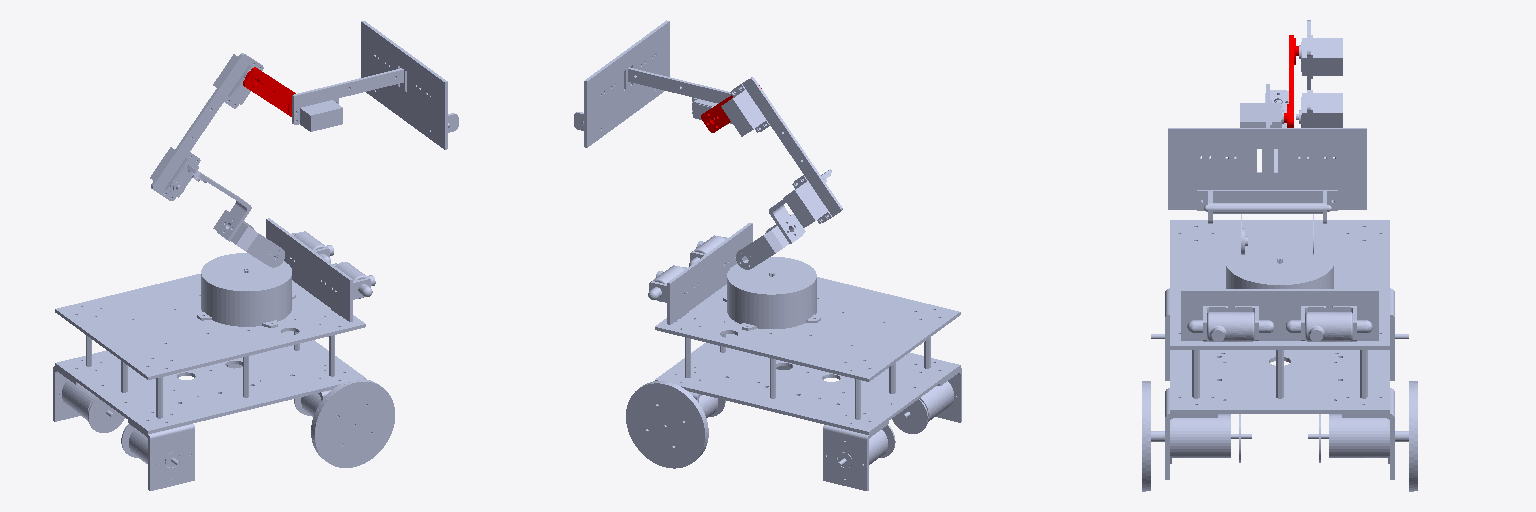
The robot description file, URDF, robot "exa_cambase":
<robot
  name="exa_cambase">
  <link
    name="base">
    <inertial>
      <origin
        xyz="0.0099032 -3.9625E-09 -0.053423"
        rpy="0 0 0" />
      <mass
        value="0.96" />
      <inertia
        ixx="0.0063903"
        ixy="2.0228E-10"
        ixz="-0.00067347"
        iyy="0.010388"
        iyz="3.5225E-10"
        izz="0.012125" />
    </inertial>
    <visual>
      <origin
        xyz="0 0 0"
        rpy="0 0 0" />
      <geometry>
        <mesh
          filename="package://exa_cambase/meshes/base.stl" />
      </geometry>
      <material
        name="">
        <color
          rgba="0.79216 0.81961 0.93333 1" />
      </material>
    </visual>
    <collision>
      <origin
        xyz="0 0 0"
        rpy="0 0 0" />
      <geometry>
        <mesh
          filename="package://exa_cambase/meshes/base.stl" />
      </geometry>
    </collision>
  </link>
  <link
    name="mlink1">
    <inertial>
      <origin
        xyz="-0.06527 0.10431 0.10694"
        rpy="0 0 0" />
      <mass
        value="2.1964" />
      <inertia
        ixx="0.040348"
        ixy="0.0006216"
        ixz="-0.014099"
        iyy="0.055662"
        iyz="-2.2821E-05"
        izz="0.037292" />
    </inertial>
    <visual>
      <origin
        xyz="0 0 0"
        rpy="0 0 0" />
      <geometry>
        <mesh
          filename="package://exa_cambase/meshes/mlink1.stl" />
      </geometry>
      <material
        name="">
        <color
          rgba="0.79216 0.81961 0.93333 1" />
      </material>
    </visual>
    <collision>
      <origin
        xyz="0 0 0"
        rpy="0 0 0" />
      <geometry>
        <mesh
          filename="package://exa_cambase/meshes/mlink1.stl" />
      </geometry>
    </collision>
  </link>
  <joint
    name="mjoint1"
    type="continuous">
    <origin
      xyz="0.10805 -0.104 -0.103"
      rpy="0 0 0" />
    <parent
      link="base" />
    <child
      link="mlink1" />
    <axis
      xyz="0 -1 0" />
    <limit
      effort="100"
      velocity="50" />
  </joint>
  <link
    name="mlink2">
    <inertial>
      <origin
        xyz="-0.06527 -0.10369 0.10694"
        rpy="0 0 0" />
      <mass
        value="2.1964" />
      <inertia
        ixx="0.040348"
        ixy="0.0006216"
        ixz="-0.014099"
        iyy="0.055662"
        iyz="-2.2821E-05"
        izz="0.037292" />
    </inertial>
    <visual>
      <origin
        xyz="0 0 0"
        rpy="0 0 0" />
      <geometry>
        <mesh
          filename="package://exa_cambase/meshes/mlink2.stl" />
      </geometry>
      <material
        name="">
        <color
          rgba="0.79216 0.81961 0.93333 1" />
      </material>
    </visual>
    <collision>
      <origin
        xyz="0 0 0"
        rpy="0 0 0" />
      <geometry>
        <mesh
          filename="package://exa_cambase/meshes/mlink2.stl" />
      </geometry>
    </collision>
  </link>
  <joint
    name="mjoint2"
    type="continuous">
    <origin
      xyz="0.10805 0.104 -0.103"
      rpy="0 -2.9721E-58 8.5125E-44" />
    <parent
      link="base" />
    <child
      link="mlink2" />
    <axis
      xyz="0 1 0" />
    <limit
      effort="100"
      velocity="50" />
  </joint>
  <link
    name="mlink3">
    <inertial>
      <origin
        xyz="0.14873 0.10431 0.10694"
        rpy="0 0 0" />
      <mass
        value="2.1964" />
      <inertia
        ixx="0.040348"
        ixy="0.0006216"
        ixz="-0.014099"
        iyy="0.055662"
        iyz="-2.2821E-05"
        izz="0.037292" />
    </inertial>
    <visual>
      <origin
        xyz="0 0 0"
        rpy="0 0 0" />
      <geometry>
        <mesh
          filename="package://exa_cambase/meshes/mlink3.stl" />
      </geometry>
      <material
        name="">
        <color
          rgba="0.79216 0.81961 0.93333 1" />
      </material>
    </visual>
    <collision>
      <origin
        xyz="0 0 0"
        rpy="0 0 0" />
      <geometry>
        <mesh
          filename="package://exa_cambase/meshes/mlink3.stl" />
      </geometry>
    </collision>
  </link>
  <joint
    name="mjoint3"
    type="continuous">
    <origin
      xyz="-0.10595 -0.104 -0.103"
      rpy="0 0 0" />
    <parent
      link="base" />
    <child
      link="mlink3" />
    <axis
      xyz="0 -1 0" />
    <limit
      effort="100"
      velocity="50" />
  </joint>
  <link
    name="mlink4">
    <inertial>
      <origin
        xyz="0.14873 -0.10369 0.10694"
        rpy="0 0 0" />
      <mass
        value="2.1964" />
      <inertia
        ixx="0.040348"
        ixy="0.0006216"
        ixz="-0.014099"
        iyy="0.055662"
        iyz="-2.2821E-05"
        izz="0.037292" />
    </inertial>
    <visual>
      <origin
        xyz="0 0 0"
        rpy="0 0 0" />
      <geometry>
        <mesh
          filename="package://exa_cambase/meshes/mlink4.stl" />
      </geometry>
      <material
        name="">
        <color
          rgba="0.79216 0.81961 0.93333 1" />
      </material>
    </visual>
    <collision>
      <origin
        xyz="0 0 0"
        rpy="0 0 0" />
      <geometry>
        <mesh
          filename="package://exa_cambase/meshes/mlink4.stl" />
      </geometry>
    </collision>
  </link>
  <joint
    name="mjoint4"
    type="continuous">
    <origin
      xyz="-0.10595 0.104 -0.103"
      rpy="0 -2.9721E-58 8.5125E-44" />
    <parent
      link="base" />
    <child
      link="mlink4" />
    <axis
      xyz="0 1 0" />
    <limit
      effort="100"
      velocity="50" />
  </joint>
  <link
    name="alink1">
    <inertial>
      <origin
        xyz="-0.0032701 0.00030673 -0.037184"
        rpy="0 0 0" />
      <mass
        value="2.1964" />
      <inertia
        ixx="0.040348"
        ixy="0.0006216"
        ixz="-0.014099"
        iyy="0.055662"
        iyz="-2.2821E-05"
        izz="0.037292" />
    </inertial>
    <visual>
      <origin
        xyz="0 0 0"
        rpy="0 0 0" />
      <geometry>
        <mesh
          filename="package://exa_cambase/meshes/alink1.stl" />
      </geometry>
      <material
        name="">
        <color
          rgba="0.79216 0.81961 0.93333 1" />
      </material>
    </visual>
    <collision>
      <origin
        xyz="0 0 0"
        rpy="0 0 0" />
      <geometry>
        <mesh
          filename="package://exa_cambase/meshes/alink1.stl" />
      </geometry>
    </collision>
  </link>
  <joint
    name="ajoint1"
    type="revolute">
    <origin
      xyz="0.046046 0 0.041125"
      rpy="0 -2.9721E-58 8.5125E-44" />
    <parent
      link="base" />
    <child
      link="alink1" />
    <axis
      xyz="0 0 -1" />
    <limit
      lower="-1.5708"
      upper="1.5708"
      effort="0.33"
      velocity="4.986" />
  </joint>
  <link
    name="alink2">
    <inertial>
      <origin
        xyz="-0.01877 0.029297 -0.066184"
        rpy="0 0 0" />
      <mass
        value="2.1964" />
      <inertia
        ixx="0.040348"
        ixy="0.0006216"
        ixz="-0.014099"
        iyy="0.055662"
        iyz="-2.2821E-05"
        izz="0.037292" />
    </inertial>
    <visual>
      <origin
        xyz="0 0 0"
        rpy="0 0 0" />
      <geometry>
        <mesh
          filename="package://exa_cambase/meshes/alink2.stl" />
      </geometry>
      <material
        name="">
        <color
          rgba="0.79216 0.81961 0.93333 1" />
      </material>
    </visual>
    <collision>
      <origin
        xyz="0 0 0"
        rpy="0 0 0" />
      <geometry>
        <mesh
          filename="package://exa_cambase/meshes/alink2.stl" />
      </geometry>
    </collision>
  </link>
  <joint
    name="ajoint2"
    type="revolute">
    <origin
      xyz="0.0155 -0.02899 0.029"
      rpy="0 0 -8.5125E-44" />
    <parent
      link="alink1" />
    <child
      link="alink2" />
    <axis
      xyz="0 1 0" />
    <limit
      lower="0"
      upper="0.4363"
      effort="1.1"
      velocity="3.74" />
  </joint>
  <link
    name="alink3">
    <inertial>
      <origin
        xyz="0.059507 0.0018825 -0.16581"
        rpy="0 0 0" />
      <mass
        value="2.1964" />
      <inertia
        ixx="0.040348"
        ixy="0.0006216"
        ixz="-0.014099"
        iyy="0.055662"
        iyz="-2.2821E-05"
        izz="0.037292" />
    </inertial>
    <visual>
      <origin
        xyz="0 0 0"
        rpy="0 0 0" />
      <geometry>
        <mesh
          filename="package://exa_cambase/meshes/alink3.stl" />
      </geometry>
      <material
        name="">
        <color
          rgba="0.79216 0.81961 0.93333 1" />
      </material>
    </visual>
    <collision>
      <origin
        xyz="0 0 0"
        rpy="0 0 0" />
      <geometry>
        <mesh
          filename="package://exa_cambase/meshes/alink3.stl" />
      </geometry>
    </collision>
  </link>
  <joint
    name="ajoint3"
    type="revolute">
    <origin
      xyz="-0.078277 0.027414 0.099623"
      rpy="0 0 0" />
    <parent
      link="alink2" />
    <child
      link="alink3" />
    <axis
      xyz="0.64279 0 0.76604" />
    <limit
      lower="-1.5708"
      upper="1.5708"
      effort="0.77"
      velocity="4.363" />
  </joint>
  <link
    name="alink4">
    <inertial>
      <origin
        xyz="0.071203 -0.014084 -0.1485"
        rpy="0 0 0" />
      <mass
        value="2.1964" />
      <inertia
        ixx="0.040348"
        ixy="0.0006216"
        ixz="-0.014099"
        iyy="0.055662"
        iyz="-2.2821E-05"
        izz="0.037292" />
    </inertial>
    <visual>
      <origin
        xyz="0 0 0"
        rpy="0 0 0" />
      <geometry>
        <mesh
          filename="package://exa_cambase/meshes/alink4.stl" />
      </geometry>
      <material
        name="">
        <color
          rgba="0.79216 0.81961 0.93333 1" />
      </material>
    </visual>
    <collision>
      <origin
        xyz="0 0 0"
        rpy="0 0 0" />
      <geometry>
        <mesh
          filename="package://exa_cambase/meshes/alink4.stl" />
      </geometry>
    </collision>
  </link>
  <joint
    name="ajoint4"
    type="revolute">
    <origin
      xyz="-0.011696 0.015967 -0.017312"
      rpy="0 0 0" />
    <parent
      link="alink3" />
    <child
      link="alink4" />
    <axis
      xyz="0 -1 0" />
    <limit
      lower="0"
      upper="3.1416"
      effort="0.77"
      velocity="4.363" />
  </joint>
  <link
    name="alink5">
    <inertial>
      <origin
        xyz="-0.020438 -0.017084 -0.25692"
        rpy="0 0 0" />
      <mass
        value="2.1964" />
      <inertia
        ixx="0.040348"
        ixy="0.0006216"
        ixz="-0.014099"
        iyy="0.055662"
        iyz="-2.2821E-05"
        izz="0.037292" />
    </inertial>
    <visual>
      <origin
        xyz="0 0 0"
        rpy="0 0 0" />
      <geometry>
        <mesh
          filename="package://exa_cambase/meshes/alink5.stl" />
      </geometry>
      <material
        name="">
        <color
          rgba="1 0 0 0.3" />
      </material>
    </visual>
    <collision>
      <origin
        xyz="0 0 0"
        rpy="0 0 0" />
      <geometry>
        <mesh
          filename="package://exa_cambase/meshes/alink5.stl" />
      </geometry>
    </collision>
  </link>
  <joint
    name="ajoint5"
    type="revolute">
    <origin
      xyz="0.091641 0.003 0.10842"
      rpy="0 0 0" />
    <parent
      link="alink4" />
    <child
      link="alink5" />
    <axis
      xyz="0 1 0" />
    <limit
      lower="0"
      upper="3.1416"
      effort="0.32"
      velocity="4.55" />
  </joint>
  <link
    name="alink6">
    <inertial>
      <origin
        xyz="-0.070997 -0.0060845 -0.21449"
        rpy="0 0 0" />
      <mass
        value="2.1964" />
      <inertia
        ixx="0.040348"
        ixy="0.0006216"
        ixz="-0.014099"
        iyy="0.055662"
        iyz="-2.2821E-05"
        izz="0.037292" />
    </inertial>
    <visual>
      <origin
        xyz="0 0 0"
        rpy="0 0 0" />
      <geometry>
        <mesh
          filename="package://exa_cambase/meshes/alink6.stl" />
      </geometry>
      <material
        name="">
        <color
          rgba="0.79216 0.81961 0.93333 1" />
      </material>
    </visual>
    <collision>
      <origin
        xyz="0 0 0"
        rpy="0 0 0" />
      <geometry>
        <mesh
          filename="package://exa_cambase/meshes/alink6.stl" />
      </geometry>
    </collision>
  </link>
  <joint
    name="ajoint6"
    type="revolute">
    <origin
      xyz="0.050559 -0.011 -0.042424"
      rpy="0 0 0" />
    <parent
      link="alink5" />
    <child
      link="alink6" />
    <axis
      xyz="0 1 0" />
    <limit
      lower="-0.8726"
      upper="2.2689"
      effort="0.32"
      velocity="4.55" />
  </joint>
  <link
    name="clink1">
    <inertial>
      <origin
        xyz="-0.022452 0.011249 2.0047E-10"
        rpy="0 0 0" />
      <mass
        value="0.036327" />
      <inertia
        ixx="1.1514E-05"
        ixy="1.7293E-07"
        ixz="2.1921E-13"
        iyy="4.7507E-06"
        iyz="2.7421E-13"
        izz="1.3424E-05" />
    </inertial>
    <visual>
      <origin
        xyz="0 0 0"
        rpy="0 0 0" />
      <geometry>
        <mesh
          filename="package://exa_cambase/meshes/clink1.stl" />
      </geometry>
      <material
        name="">
        <color
          rgba="0.79216 0.81961 0.93333 1" />
      </material>
    </visual>
    <collision>
      <origin
        xyz="0 0 0"
        rpy="0 0 0" />
      <geometry>
        <mesh
          filename="package://exa_cambase/meshes/clink1.stl" />
      </geometry>
    </collision>
  </link>
  <joint
    name="cjoint1"
    type="fixed">
    <origin
      xyz="0.17005 -0.056 0.026"
      rpy="0 -2.9721E-58 8.5125E-44" />
    <parent
      link="base" />
    <child
      link="clink1" />
    <axis
      xyz="0 0 0" />
  </joint>
  <link
    name="clink2">
    <inertial>
      <origin
        xyz="-0.022452 0.011249 2.0047E-10"
        rpy="0 0 0" />
      <mass
        value="0.036327" />
      <inertia
        ixx="1.1514E-05"
        ixy="1.7293E-07"
        ixz="2.1921E-13"
        iyy="4.7507E-06"
        iyz="2.7421E-13"
        izz="1.3424E-05" />
    </inertial>
    <visual>
      <origin
        xyz="0 0 0"
        rpy="0 0 0" />
      <geometry>
        <mesh
          filename="package://exa_cambase/meshes/clink2.stl" />
      </geometry>
      <material
        name="">
        <color
          rgba="0.79216 0.81961 0.93333 1" />
      </material>
    </visual>
    <collision>
      <origin
        xyz="0 0 0"
        rpy="0 0 0" />
      <geometry>
        <mesh
          filename="package://exa_cambase/meshes/clink2.stl" />
      </geometry>
    </collision>
  </link>
  <joint
    name="cjoint2"
    type="fixed">
    <origin
      xyz="0.17005 0.033 0.026"
      rpy="0 -2.9721E-58 8.5125E-44" />
    <parent
      link="base" />
    <child
      link="clink2" />
    <axis
      xyz="0 0 0" />
  </joint>
</robot>

--- Render facts (derived) ---
Views: 3 orthographic renders of the robot side by side, from view 1: azimuth 30°, elevation 25°; view 2: azimuth 150°, elevation 25°; view 3: azimuth 270°, elevation 25°.
Robot: exa_cambase — 13 links, 12 joints (6 revolute, 4 continuous, 2 fixed); root link base; default pose: every joint at zero.
Visible links, largest first — view 1: base, alink6, mlink1, alink4, alink2, alink5, clink1; view 2: base, alink6, mlink2, alink4, alink2, clink2, alink5; view 3: base, alink6, alink4, clink1, clink2, mlink2, mlink1, alink5, alink2.
Link boxes in pixels (box(x1,y1,x2,y2)): base: box(53, 218, 365, 490); alink6: box(292, 21, 458, 149); mlink1: box(311, 379, 394, 467); alink4: box(150, 53, 263, 200); alink2: box(187, 165, 284, 267); alink5: box(243, 67, 295, 116); clink1: box(333, 262, 375, 299); base: box(655, 223, 961, 490); alink6: box(574, 20, 731, 147); mlink2: box(626, 381, 708, 468); alink4: box(721, 77, 842, 227); alink2: box(736, 169, 831, 269); clink2: box(648, 265, 686, 302); alink5: box(701, 85, 761, 132); base: box(1151, 220, 1408, 479); alink6: box(1168, 84, 1366, 223); alink4: box(1296, 20, 1342, 127); clink1: box(1187, 306, 1273, 341); clink2: box(1286, 306, 1372, 341); mlink2: box(1395, 381, 1417, 491); mlink1: box(1142, 381, 1164, 491); alink5: box(1284, 35, 1298, 127); alink2: box(1241, 90, 1313, 254).
Size in the robot's own frame: 0.4052 by 0.25 by 0.441 metres.
9 mesh visuals loaded from 13 distinct referenced files (9 binary STL); not drawn: 4 (reference not matched to a file when rendering).